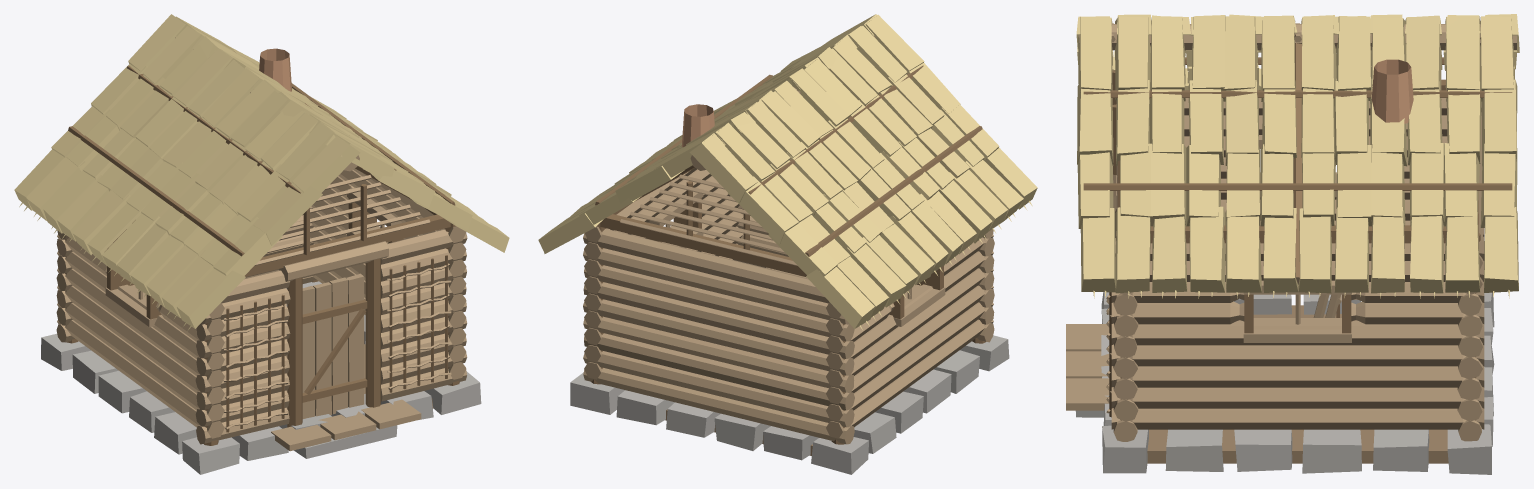
File: building_smokehouse_complete.glb
3 renders of one model, left to right at view 1: azimuth 30°, elevation 25°; view 2: azimuth 150°, elevation 25°; view 3: azimuth 270°, elevation 25°, orthographic. The views are drawn at different scales.
Parts seen in each view (by area): view 1: building_smokehouse_complete; view 2: building_smokehouse_complete; view 3: building_smokehouse_complete.
Part boxes in pixels (x1,y1,x2,y2): building_smokehouse_complete: (14,14,509,474); building_smokehouse_complete: (538,14,1037,474); building_smokehouse_complete: (1066,14,1519,474).
Size of the model in its own units: 3.96 by 3.56 by 3.9.
